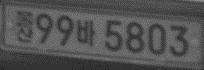0: (147, 22, 166, 55)
3: (169, 25, 188, 57)
5: (104, 19, 123, 52)
8: (125, 21, 145, 54)
9: (35, 12, 53, 44), (55, 14, 73, 46)
바: (75, 18, 95, 47)
울산_V: (15, 9, 33, 43)
